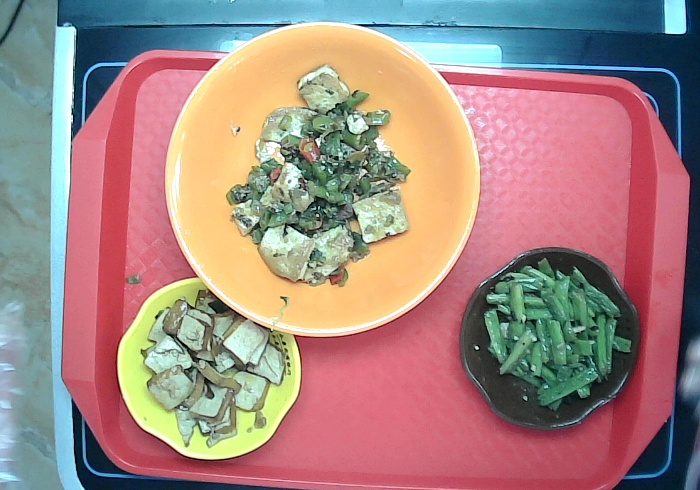YKMZ-Huang_Se_Ao_Bian_Wan: (114, 272, 311, 464)
YKMZ-Ju_Se_Tang_Wan: (161, 20, 484, 341)
YKMZ-Ka_Fei_Ao_Bian_Wan: (454, 245, 650, 435)
